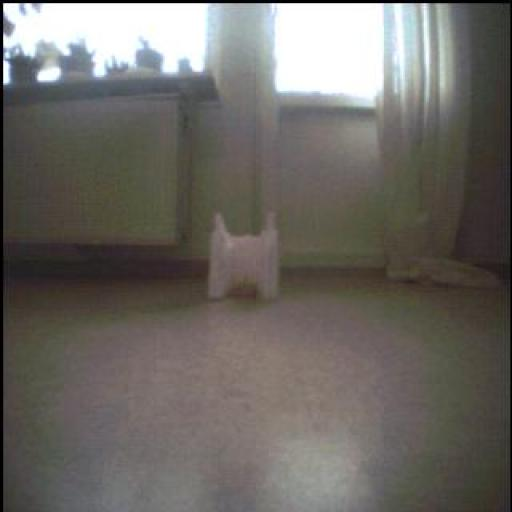Basket: (232, 276, 259, 301)
